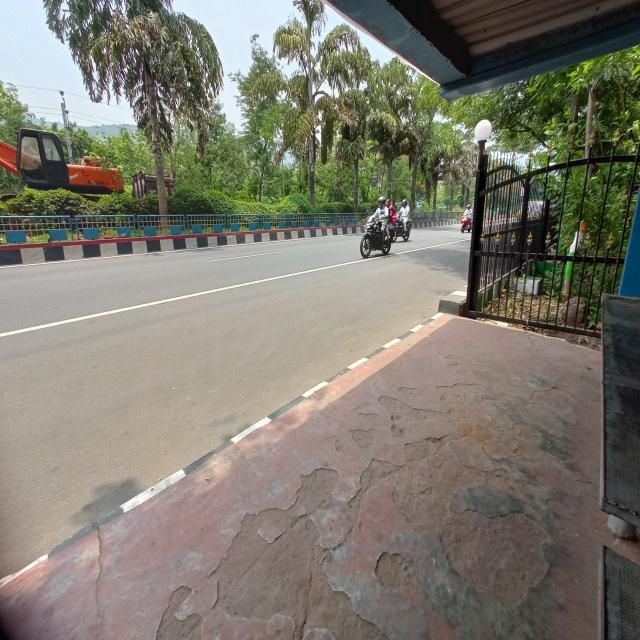bike: (355, 218, 398, 265), (396, 212, 412, 244), (458, 210, 472, 235)
